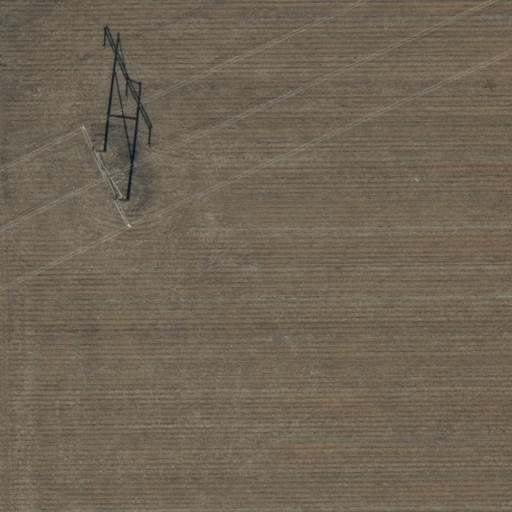TT: (72, 120, 138, 234)
